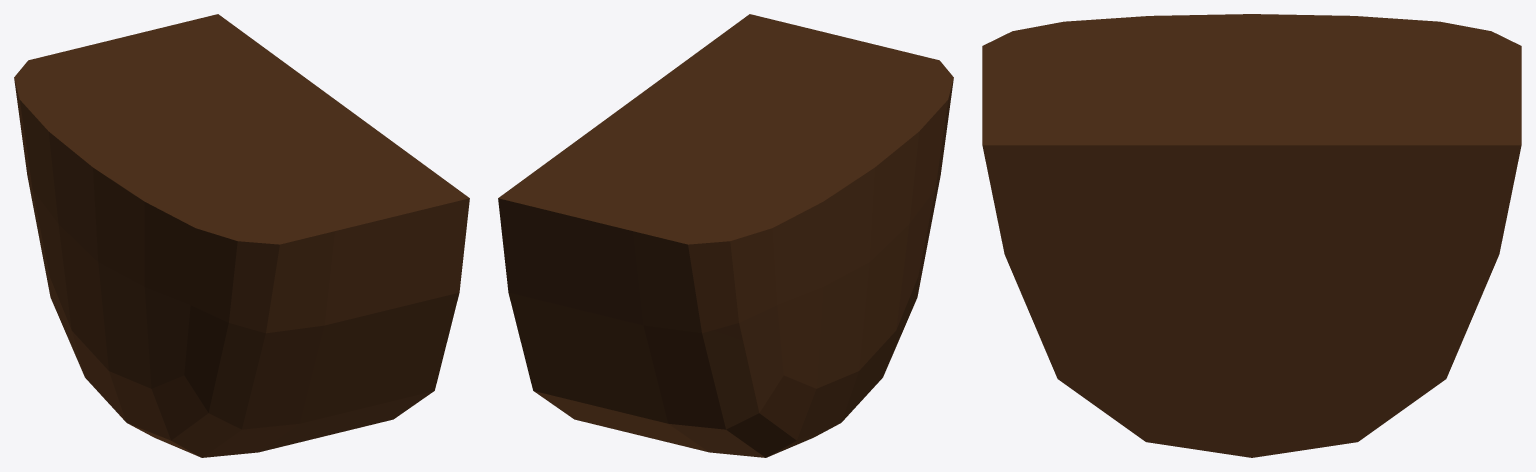
File: PlatformBottomLeft.obj
The picture shows the model from 3 angles, left to right: view 1: azimuth 30°, elevation 25°; view 2: azimuth 150°, elevation 25°; view 3: azimuth 270°, elevation 25°; orthographic projection. The views are drawn at different scales.
Parts seen in each view (by area): view 1: Platform_BottomLeft_Cube.055; view 2: Platform_BottomLeft_Cube.055; view 3: Platform_BottomLeft_Cube.055.
Part boxes in pixels (box(x1,y1,x2,y2)): Platform_BottomLeft_Cube.055: box(14, 14, 469, 457); Platform_BottomLeft_Cube.055: box(498, 14, 953, 457); Platform_BottomLeft_Cube.055: box(982, 14, 1521, 457).
Bounding box in the file's own units: 1.8 × 2 × 3.13.
